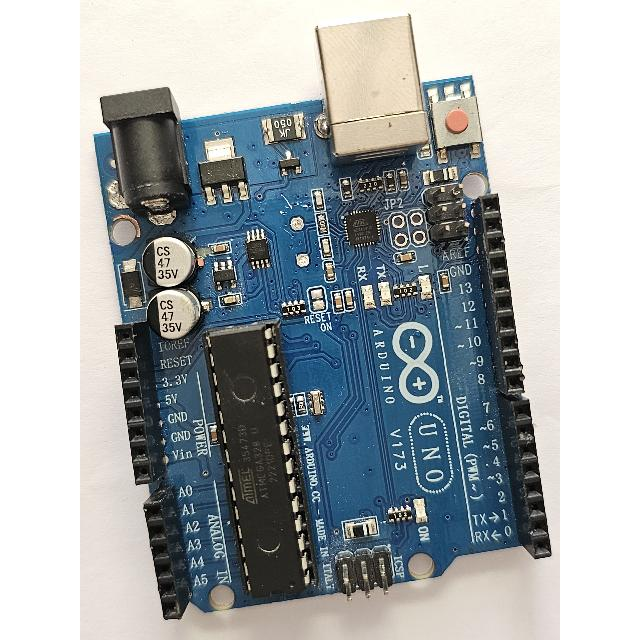missing_crystal_os: (273, 192, 322, 287)
